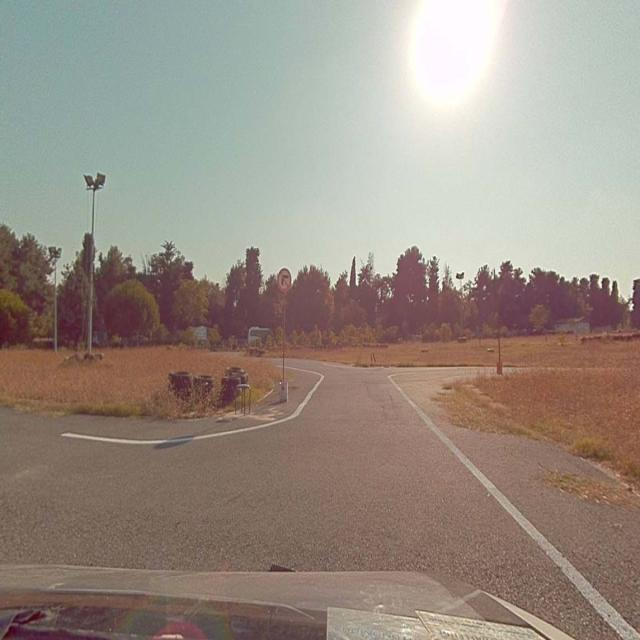sagadonulmez: (277, 268, 291, 290)
